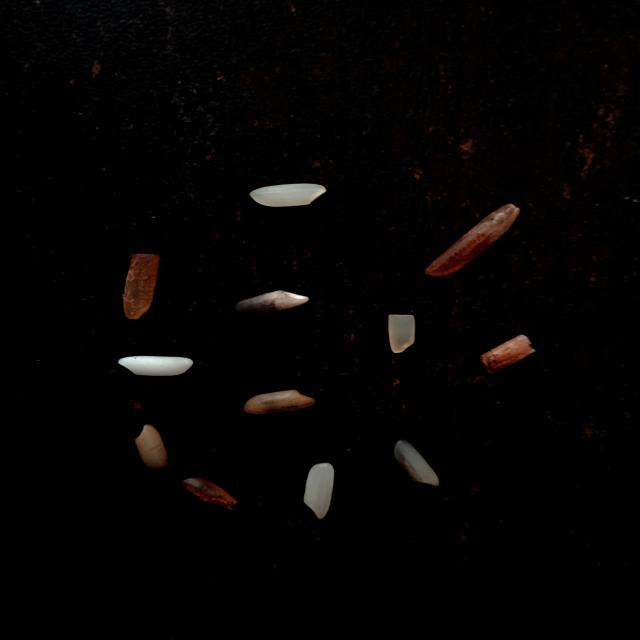Broken: (425, 204, 520, 276), (123, 253, 160, 320), (480, 334, 536, 374), (394, 439, 439, 486), (243, 390, 316, 414), (234, 290, 309, 312), (135, 424, 169, 468), (389, 314, 415, 353)
Full: (250, 184, 327, 208), (182, 478, 238, 510), (304, 463, 334, 519), (118, 356, 194, 376)
